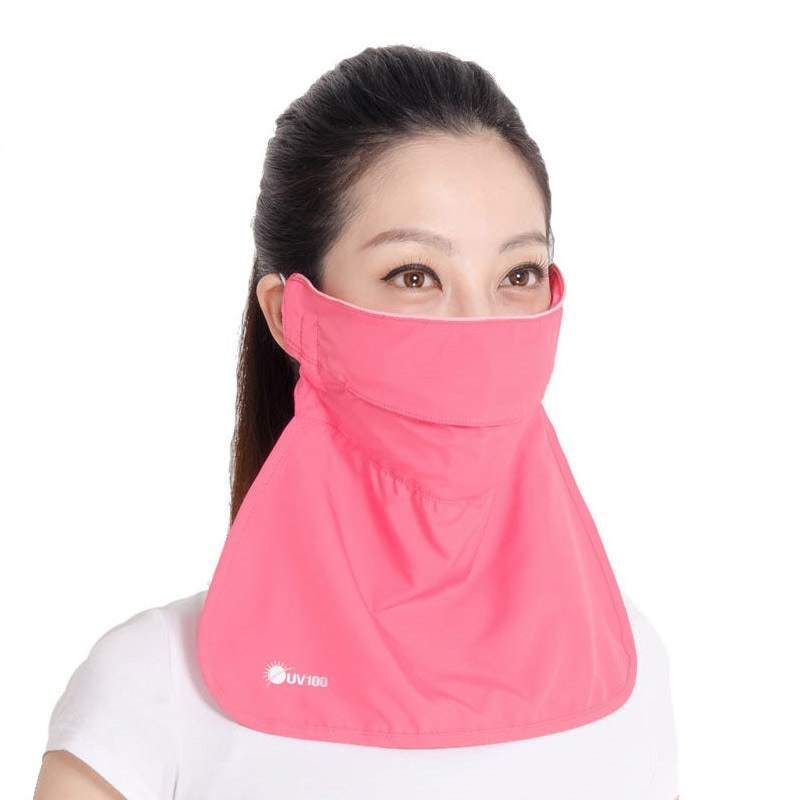face_mask: (325, 139, 556, 446)
